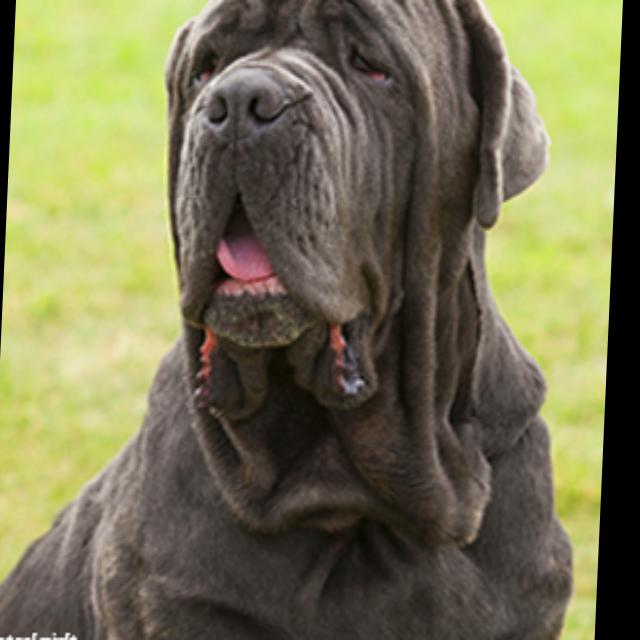mastino_napoletano: (1, 1, 604, 640)
